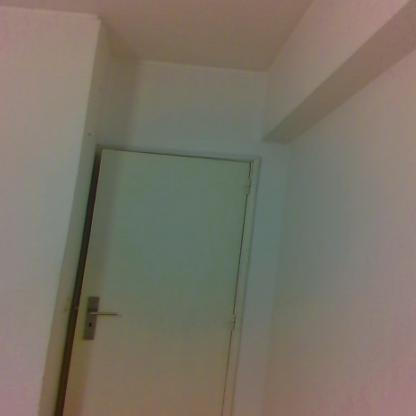door: (88, 149, 238, 415)
hinged: (244, 176, 254, 197), (228, 311, 238, 332)
lever: (90, 310, 122, 318)
